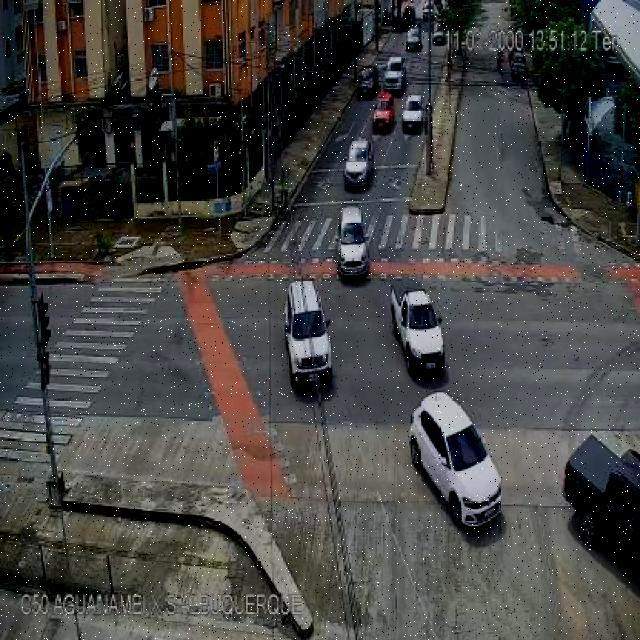car: (411, 392, 501, 527), (564, 435, 640, 576), (285, 281, 332, 384), (393, 286, 445, 372), (338, 206, 368, 279), (344, 139, 374, 189), (372, 90, 395, 134), (382, 56, 406, 94), (402, 95, 425, 133), (358, 65, 379, 98), (406, 26, 421, 51)
traffic-lights: (35, 294, 51, 389)
